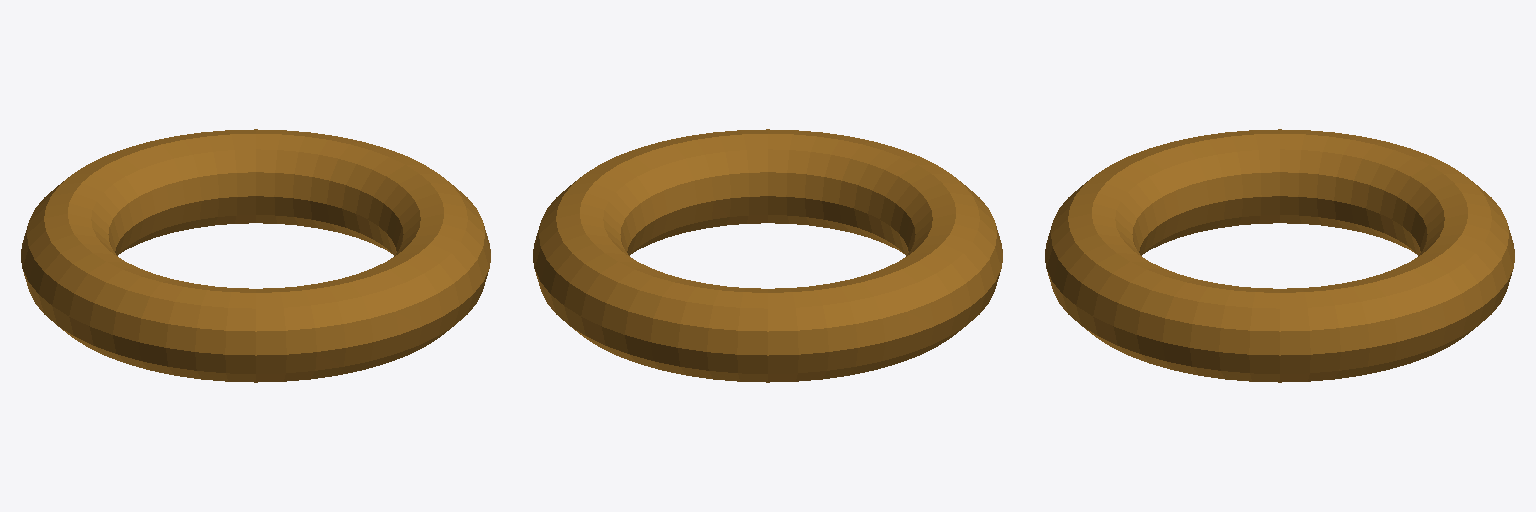
robot.urdf — decor:
<?xml version="1.0"?>
<robot name="decor"> <!-- puzzle hard environment, slot size=0.16x0.6 -->
  <material name="Dark">
    <color rgba="0.7 0.1 0.7 0.4"/>
  </material>
  
  <link name="decor_base">
    <visual>
      <origin xyz="0 0 0"/>
      <geometry>
		<mesh filename="package://animals_description/meshes/cave_mono3_3.dae"/>
      </geometry>
      <material name="Dark"/>
    </visual>
    <collision>
      <origin xyz="0 0 0"/>
      <geometry>
        <mesh filename="package://animals_description/meshes/cave_mono3_3.stl"/>
      </geometry>
    </collision>
  </link>
  
  <joint name="j_decor_one" type="fixed">
    <parent link="decor_base"/>
    <child link="l_decor_one"/>
    <origin rpy="0 0 0" xyz="0 0 0"/>
  </joint>
        
  <link name="l_decor_one">
    <visual>
      <origin xyz="0 0 0"/>
      <geometry>
        <mesh filename="package://animals_description/meshes/cave_mono3_3_cylinder_item.dae"/>
      </geometry>
    </visual>
    <!--<collision>
      <origin xyz="0 0 0"/>
      <geometry>
        <mesh filename="package://animals_description/meshes/cave_mono3_3.stl"/>
      </geometry>
    </collision>-->
  </link>
</robot>

--- Render facts (derived) ---
Views: 3 orthographic renders of the robot side by side, from view 1: azimuth 30°, elevation 25°; view 2: azimuth 150°, elevation 25°; view 3: azimuth 270°, elevation 25°.
Model decor with 2 links and 1 joints (1 fixed), rooted at decor_base, posed every joint at zero.
Visible links, largest first — view 1: l_decor_one; view 2: l_decor_one; view 3: l_decor_one.
Link boxes in pixels (left/top/right/bottom): l_decor_one: left=21, top=129, right=490, bottom=382; l_decor_one: left=533, top=129, right=1002, bottom=382; l_decor_one: left=1045, top=129, right=1514, bottom=382.
Bounding box of the posed robot: 0.0281 × 0.0281 × 0.0056 m (x, y, z).
Meshes: 2 distinct files referenced, 1 mesh visuals loaded (1 Collada DAE); not drawn: 1 (reference not matched to a file when rendering).
